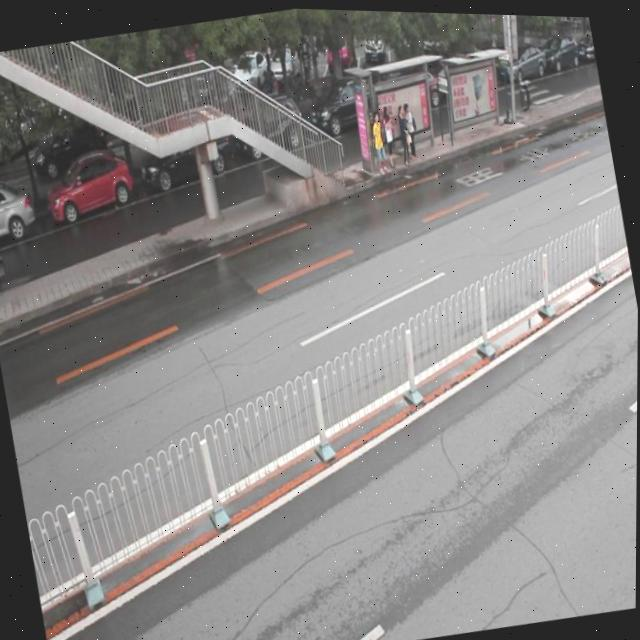car: (39, 143, 137, 227), (133, 107, 233, 188), (304, 64, 382, 137), (231, 88, 308, 159), (0, 175, 37, 246)
